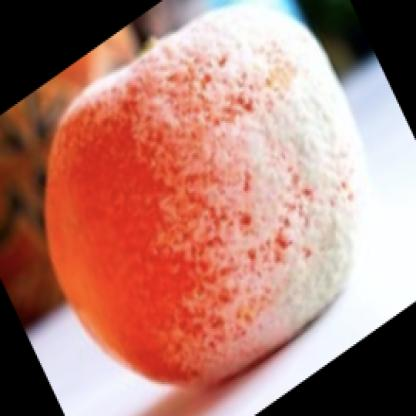rotten: (46, 9, 359, 388)
